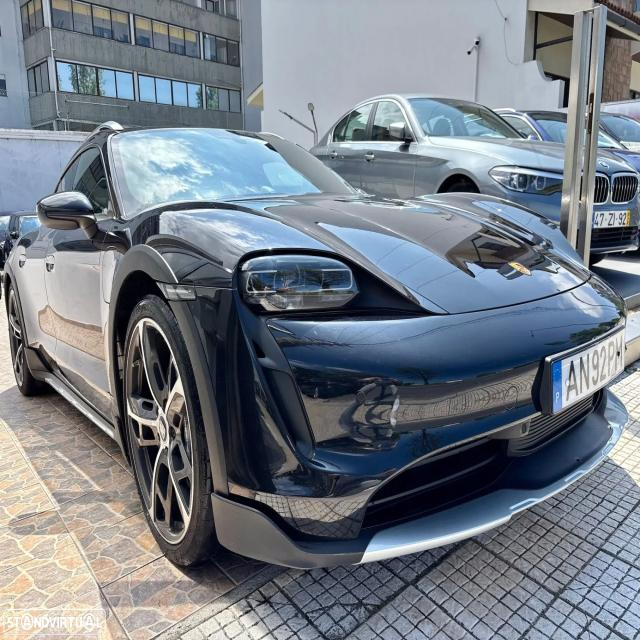portuguese-license-plates: (551, 328, 624, 414)
